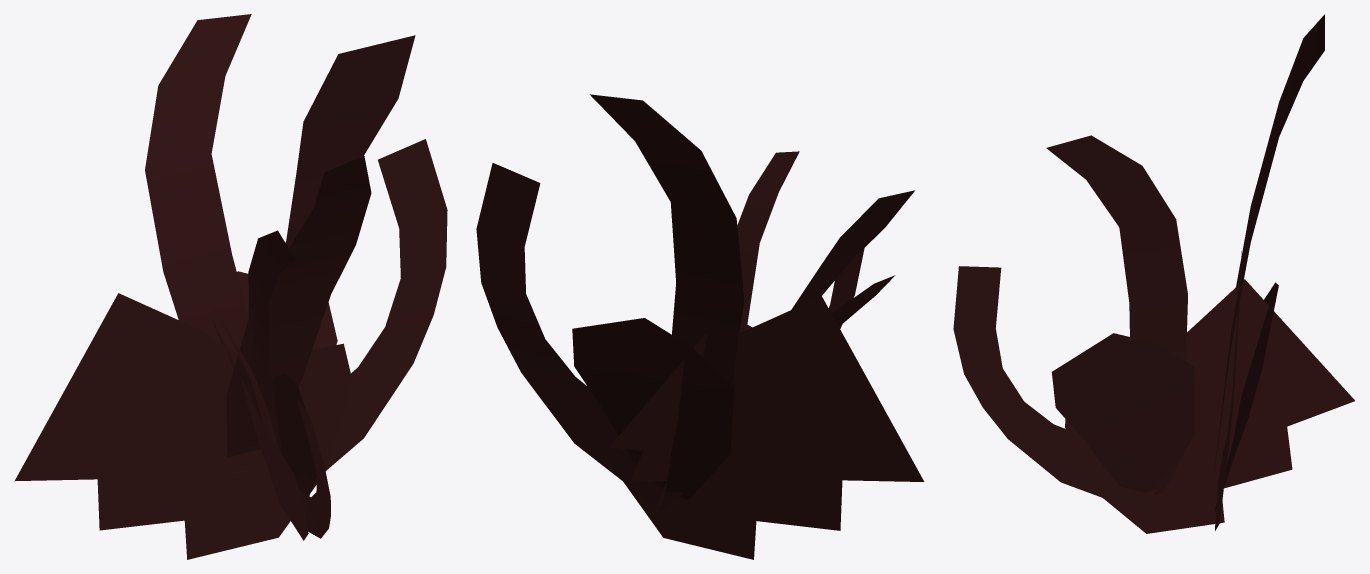
File: SM_ocean_scatterPlant_03.fbx
3 renders of one model, left to right at view 1: azimuth 30°, elevation 25°; view 2: azimuth 150°, elevation 25°; view 3: azimuth 270°, elevation 25°, orthographic. The views are drawn at different scales.
Visible parts, largest first — view 1: SM_ocean_scatterPlant_03_LOD0; view 2: SM_ocean_scatterPlant_03_LOD0; view 3: SM_ocean_scatterPlant_03_LOD0.
Boxes of the visible parts, x1,y1,x2,y2 form: SM_ocean_scatterPlant_03_LOD0: (14, 14, 447, 559); SM_ocean_scatterPlant_03_LOD0: (476, 94, 924, 559); SM_ocean_scatterPlant_03_LOD0: (953, 14, 1354, 533).
Size of what is drawn, in the model's own units: 12.12 by 8.76 by 12.74.
